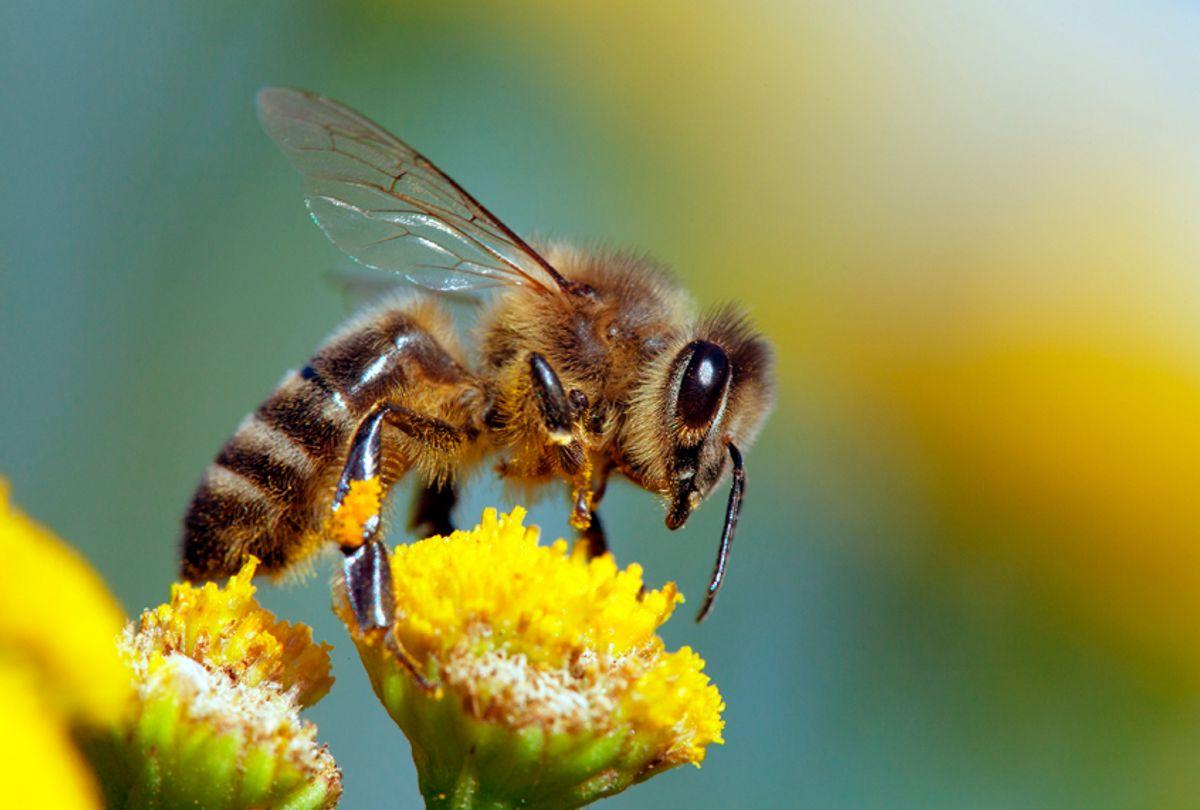Apis-mellifera-scutellata: (162, 75, 797, 688)
